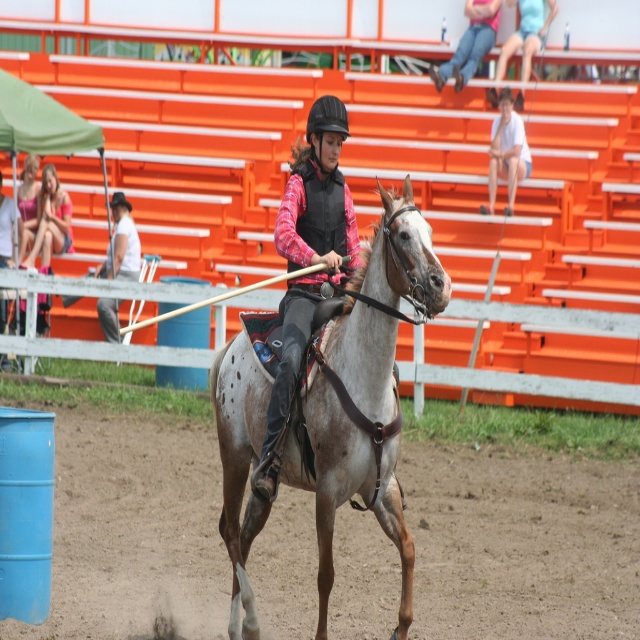Horse: (210, 173, 452, 640)
